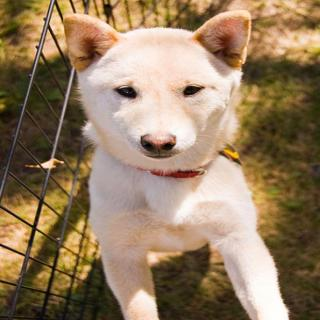dog: (62, 9, 266, 173)
nose: (139, 128, 178, 154)
